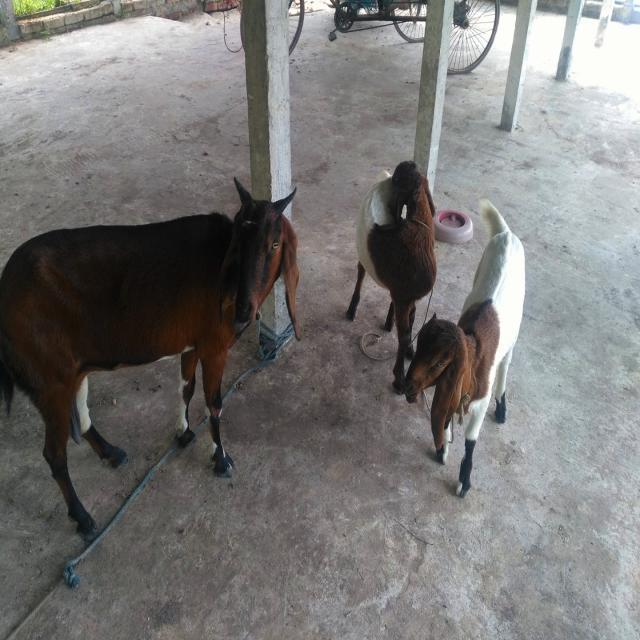Goat: (0, 175, 302, 543), (403, 197, 526, 497), (345, 159, 436, 395)
